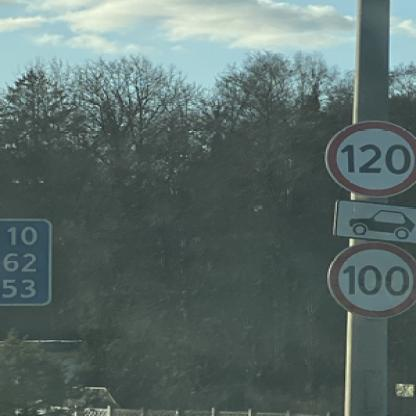Speed Limit 100: (330, 241, 416, 318)
Speed Limit 120: (326, 122, 416, 198)
